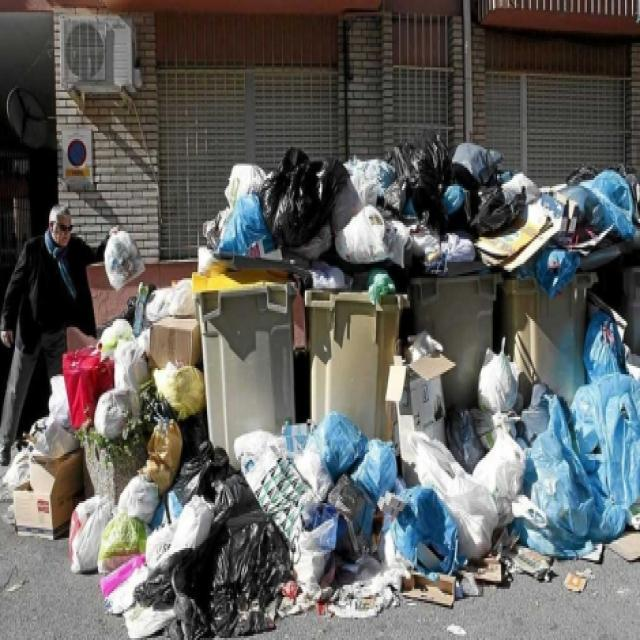garbage: (213, 129, 627, 640), (29, 290, 216, 640)
